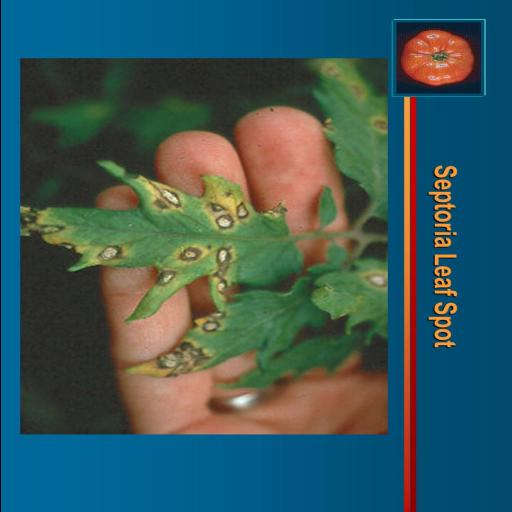Septoria: (20, 157, 294, 310), (122, 276, 330, 384), (300, 62, 384, 220), (312, 255, 390, 347)
